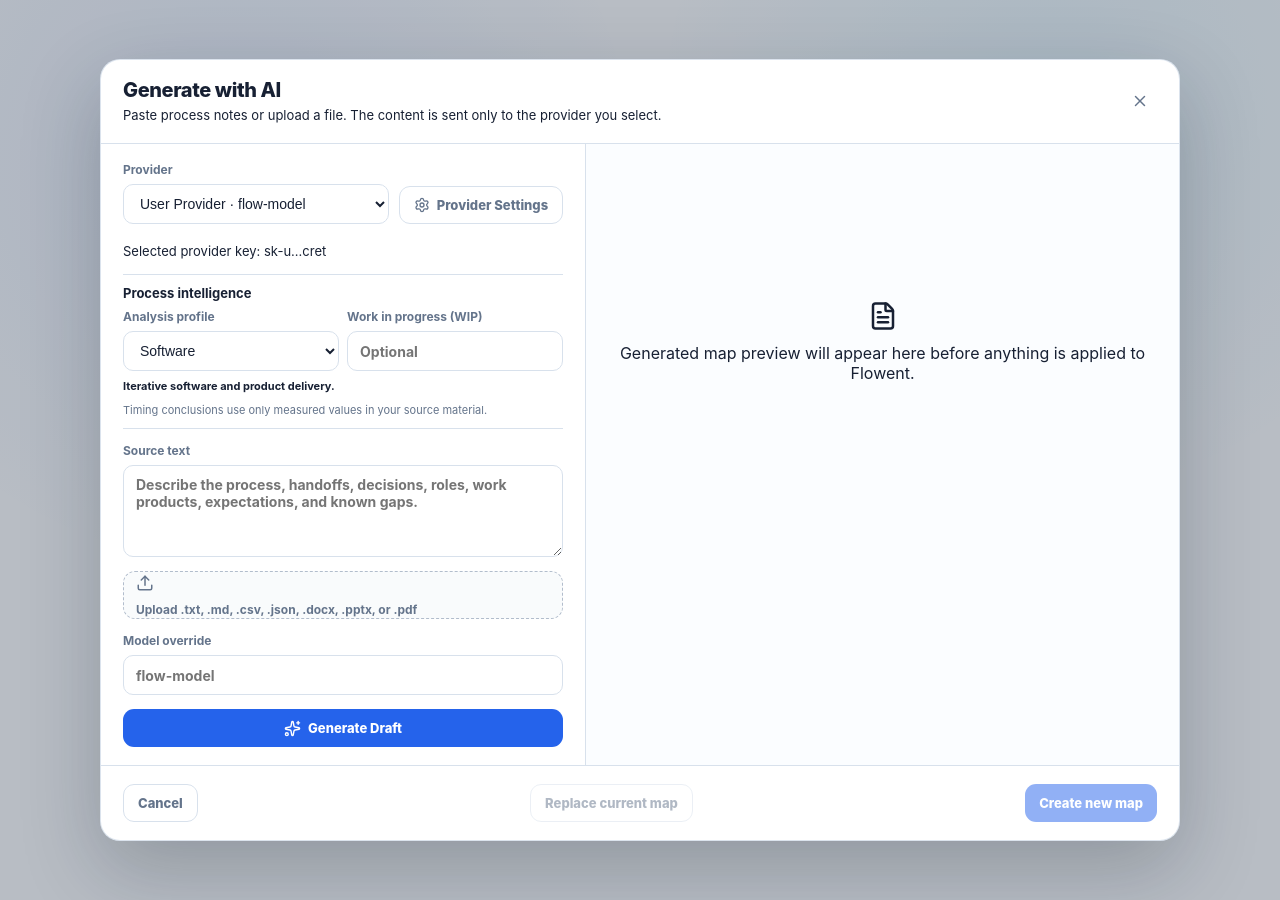
Scenario: AIGenerateModal › sends process intelligence settings and shows the resulting analysis in the preview
The width and height of the screenshot is (1280, 900).
Expected: the text "Selected provider key: sk-u...cret" is shown, x1=123 y1=243 x2=326 y2=259
Select "Manufacturing" in the dropdown labelled "Analysis profile". click: [231, 352]
box: x1=123 y1=332 x2=339 y2=372
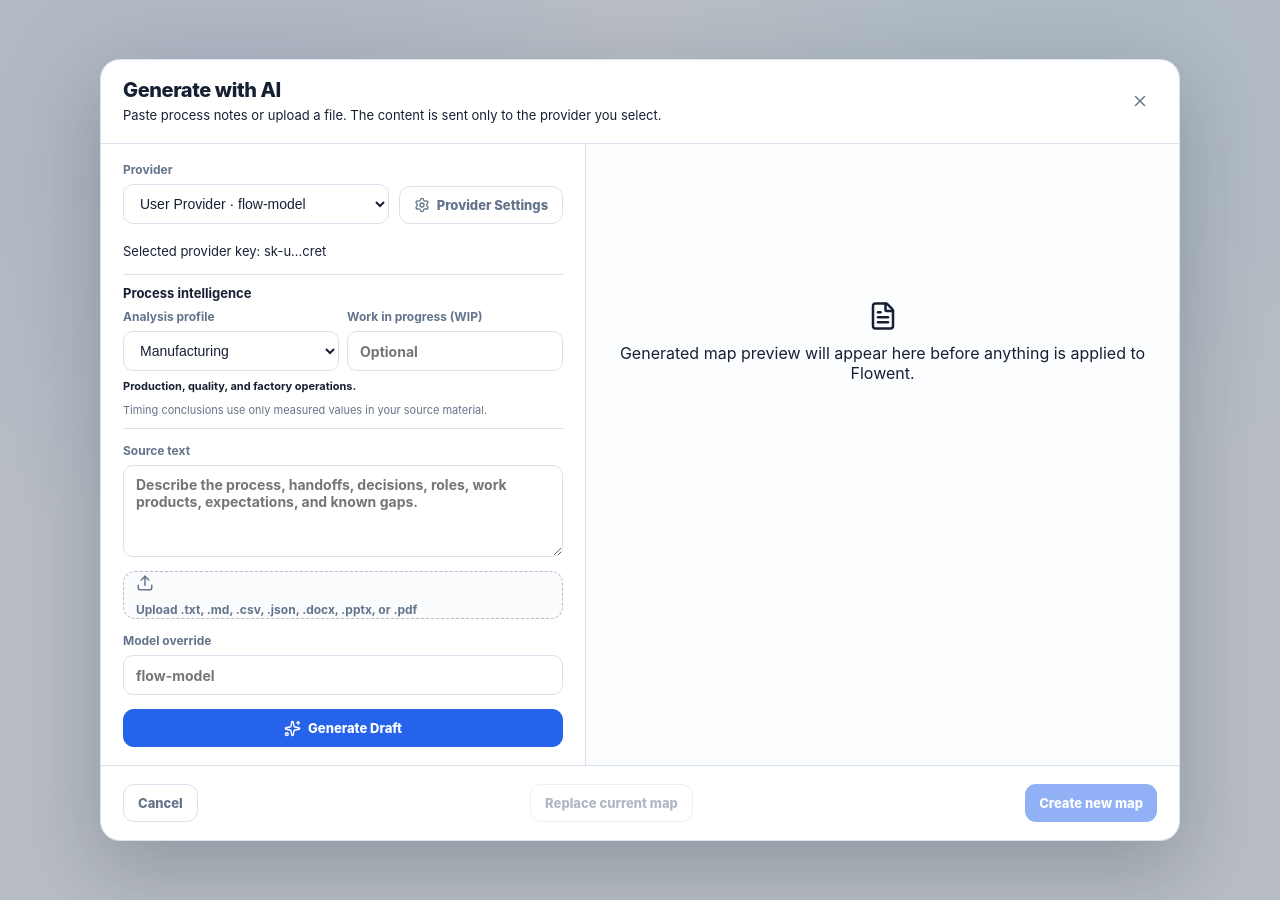
Type "6" into the number field labelled "Work in progress (WIP)". click: [455, 352]
box: x1=347 y1=332 x2=563 y2=372
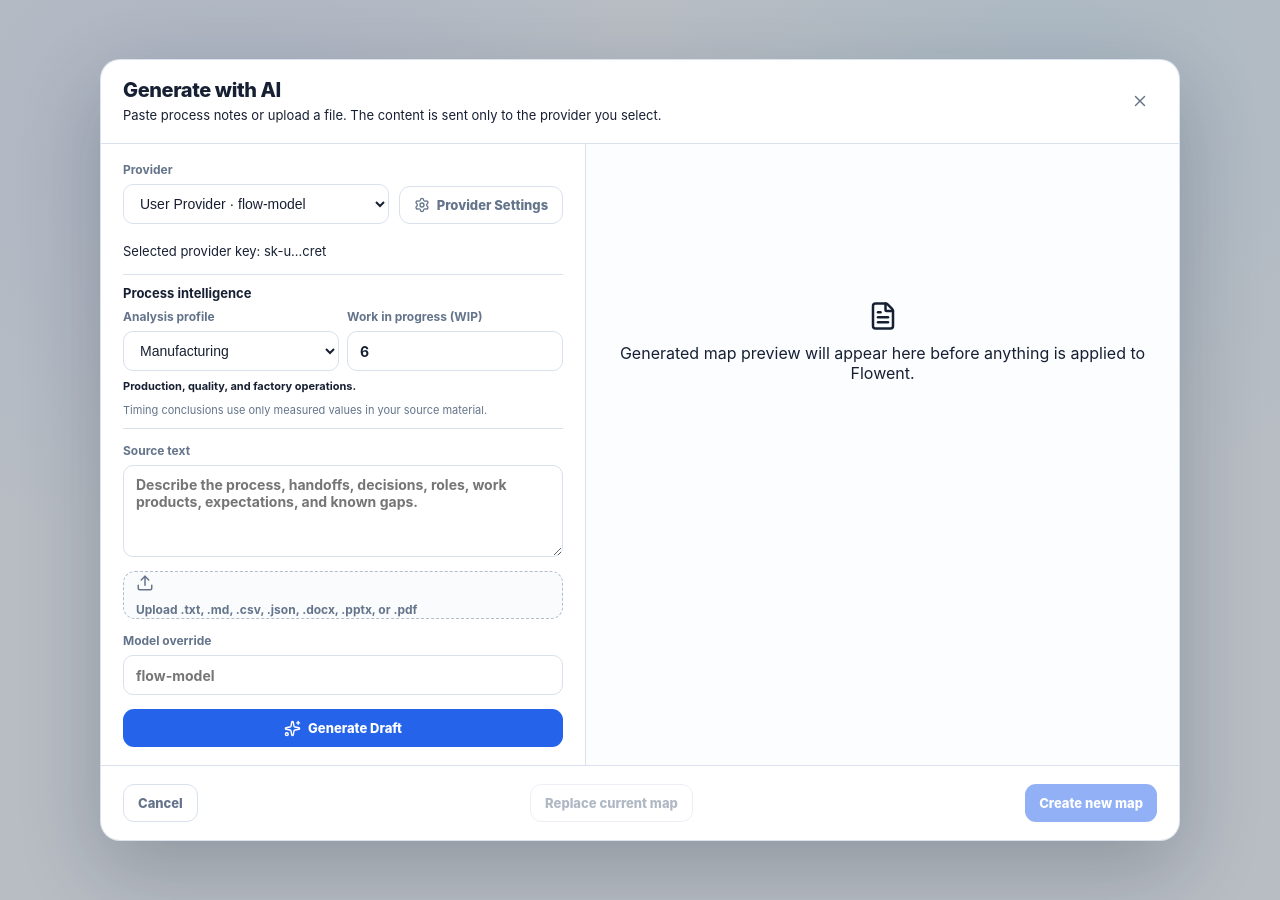
Replace the text in the text box labelled "Source text" with "Approval takes 90 minutes at P50 and 180 minutes at P90.". click: [343, 511]
box: x1=123 y1=465 x2=563 y2=557
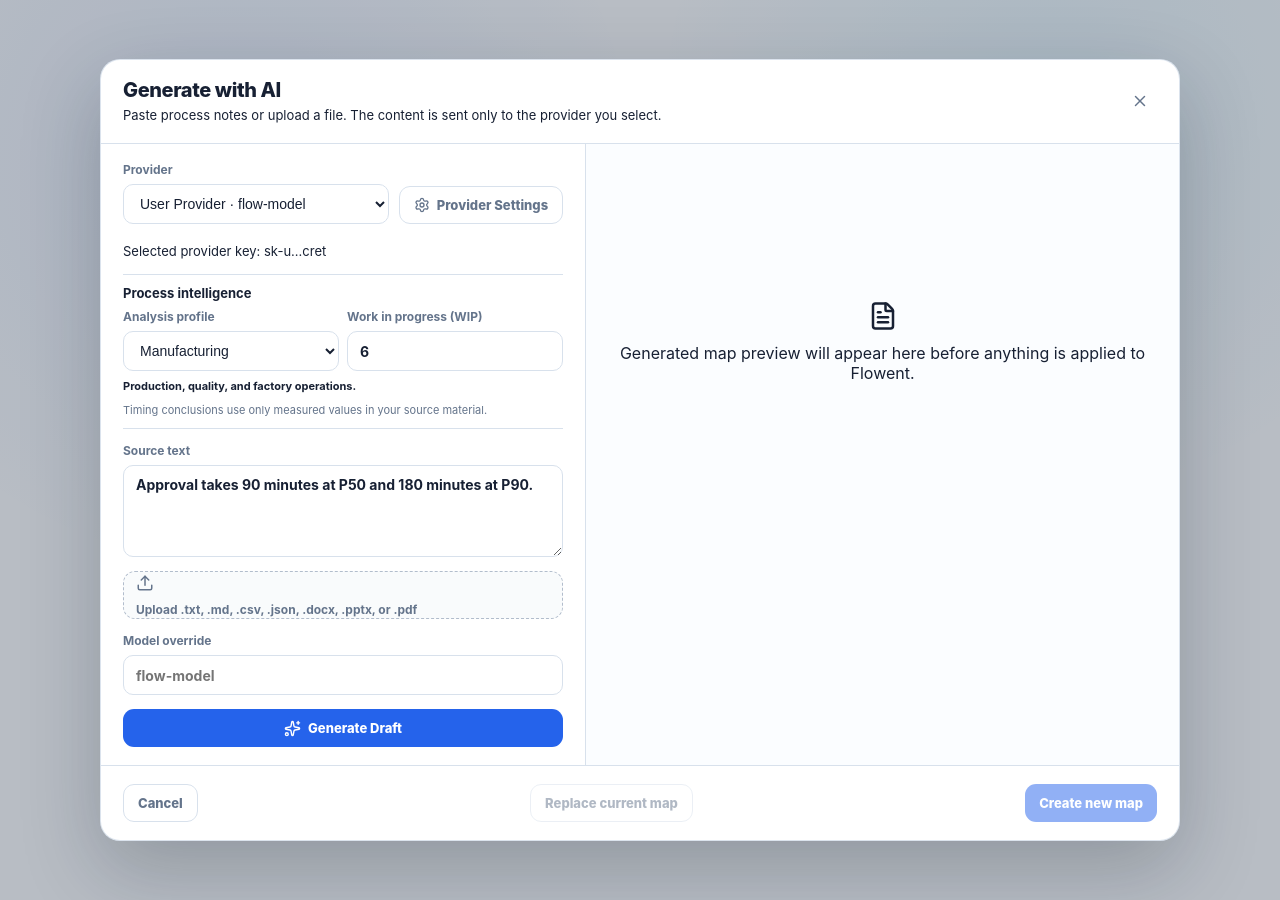
Click the button "Generate Draft". click: [343, 728]
box: x1=123 y1=709 x2=563 y2=747
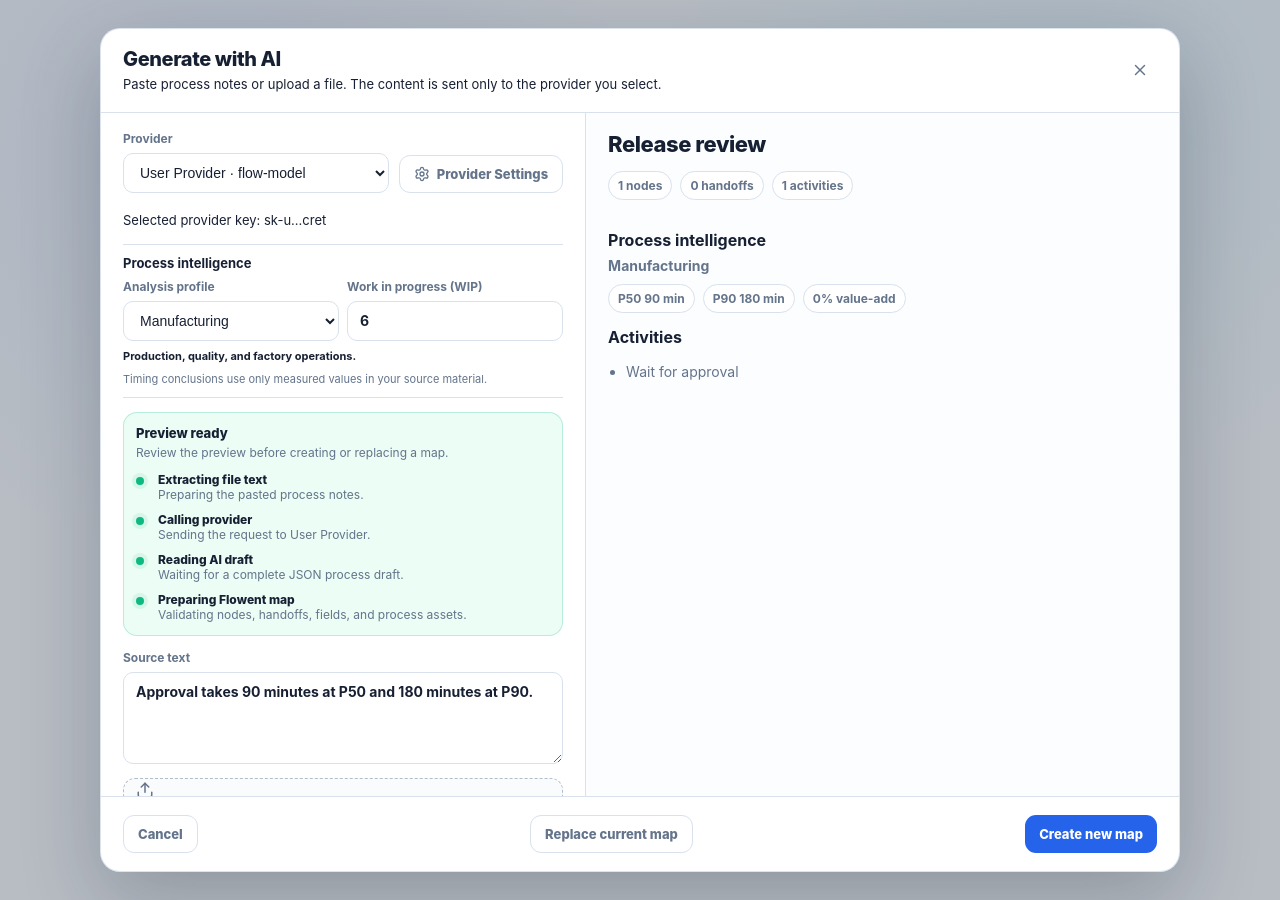
Expected: the heading "Release review" is shown, x1=608 y1=131 x2=766 y2=157
Expected: the element named "AI draft preview" shows "Process intelligence", x1=608 y1=230 x2=766 y2=250
Expected: the element named "AI draft preview" shows "Manufacturing", x1=608 y1=257 x2=709 y2=274
